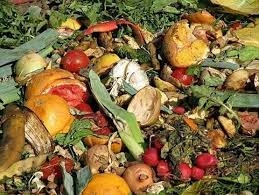kitchen_waste: (85, 68, 149, 159), (21, 68, 85, 140), (1, 99, 53, 180), (159, 15, 212, 69), (185, 83, 259, 113), (82, 14, 152, 43), (125, 83, 164, 129), (78, 170, 136, 195), (10, 51, 49, 86), (121, 162, 158, 195), (109, 37, 153, 63), (58, 47, 94, 74), (167, 66, 197, 88), (140, 145, 163, 169), (192, 151, 220, 168), (173, 162, 194, 182), (153, 158, 173, 178), (189, 166, 207, 182)
